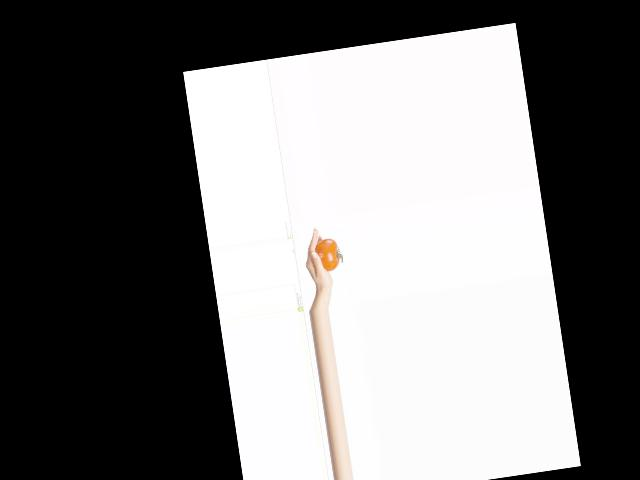tomato: (313, 237, 340, 272)
